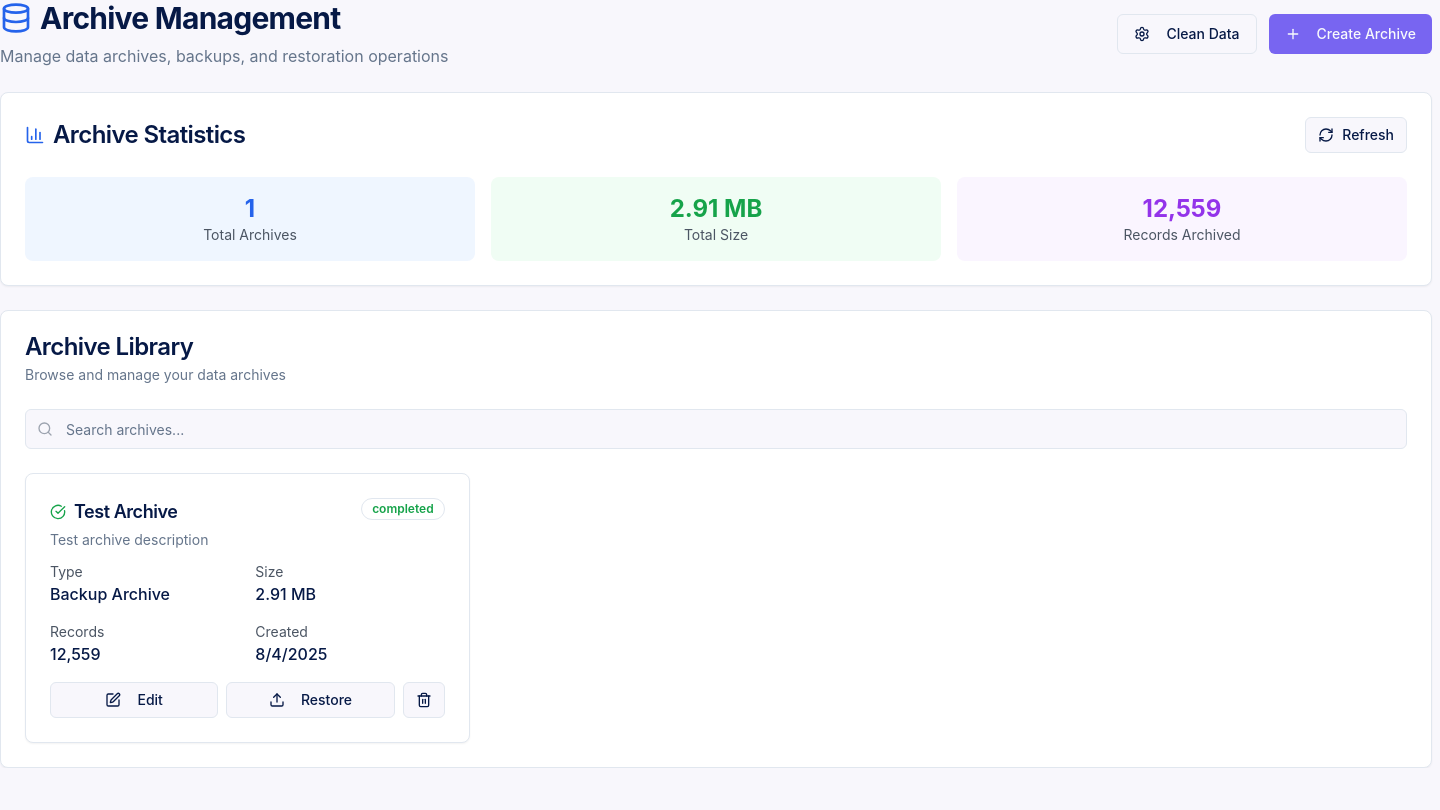
Test case: Archive Management Components › Archive Actions › should handle edit archive
Click the button "Edit" at (134, 700), box [50,682,218,718]
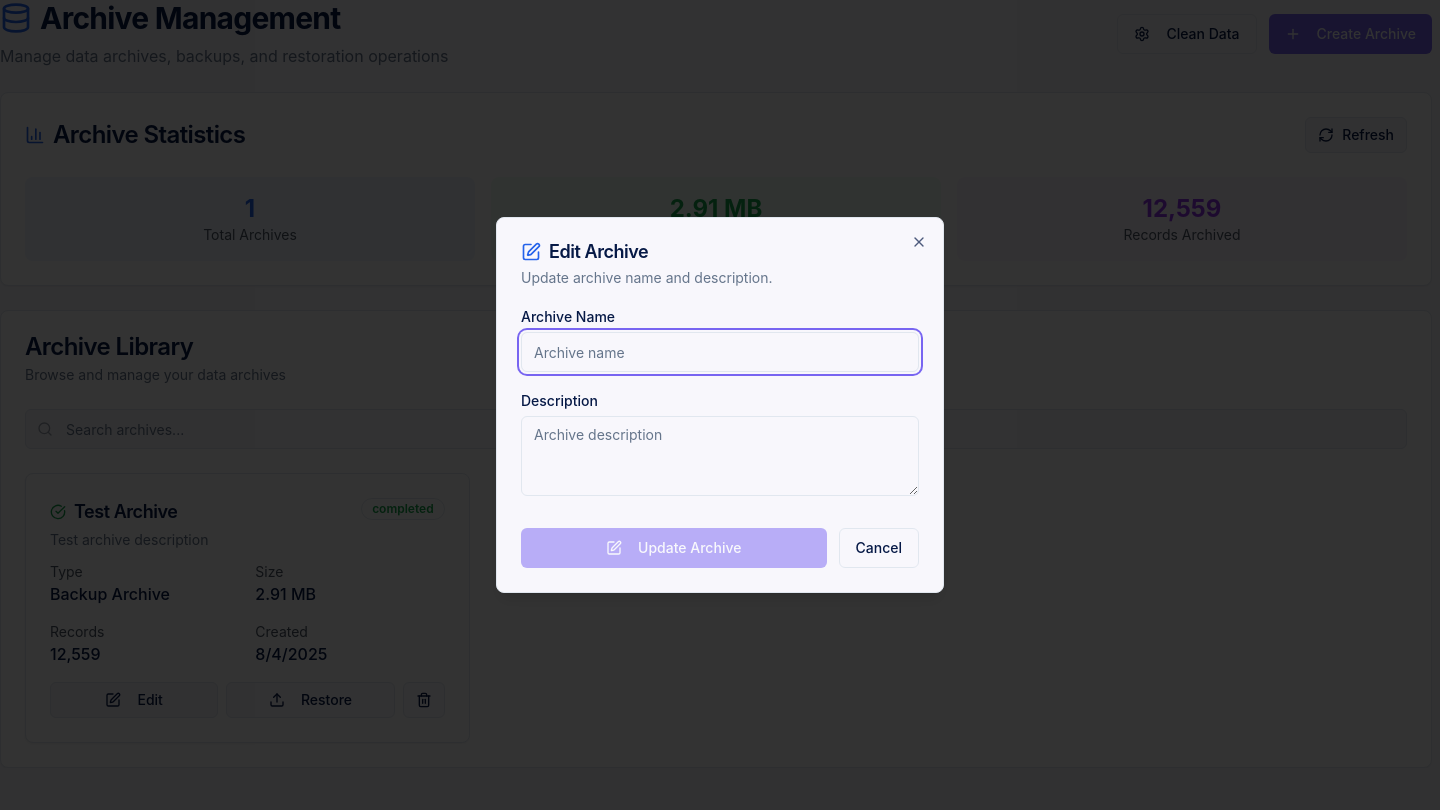
Check: the heading "Edit Archive" is shown, box [521,241,648,262]
Check: the text "Update archive name and description." is shown, box [521,269,772,286]
